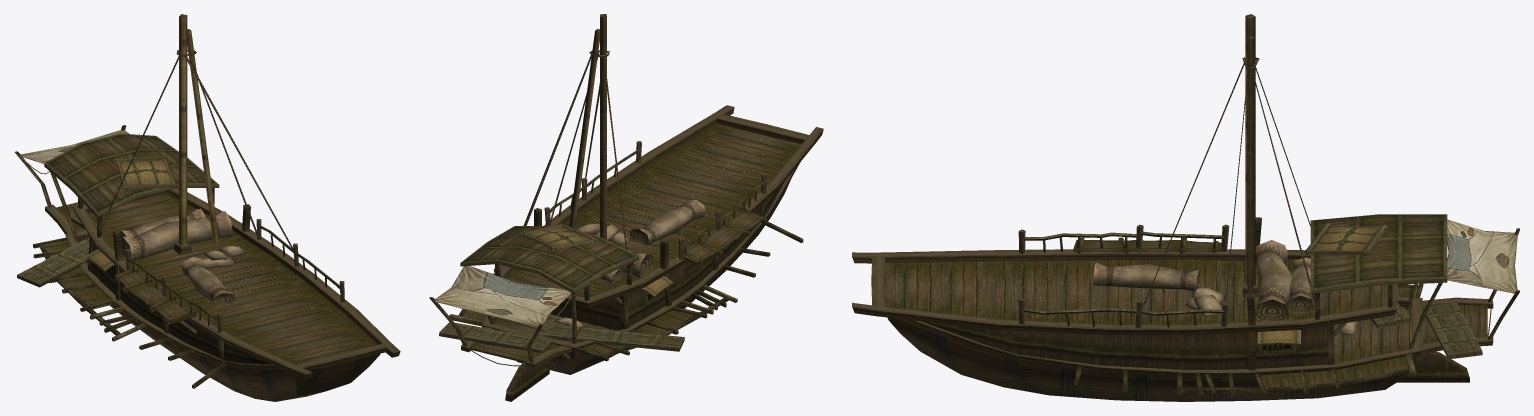
Rendered from Utility_Object_boat01.FBX.
The picture shows the model from 3 angles, left to right: view 1: azimuth 30°, elevation 25°; view 2: azimuth 150°, elevation 25°; view 3: azimuth 270°, elevation 25°; orthographic projection. The views are drawn at different scales.
Parts seen in each view (by area): view 1: Utility_Object_boat01; view 2: Utility_Object_boat01; view 3: Utility_Object_boat01.
Part boxes in pixels (x1=…): Utility_Object_boat01: x1=14, y1=14, x2=400, y2=401; Utility_Object_boat01: x1=429, y1=14, x2=823, y2=401; Utility_Object_boat01: x1=852, y1=14, x2=1519, y2=401.
Bounding box in the file's own units: 558 × 729 × 1208.
